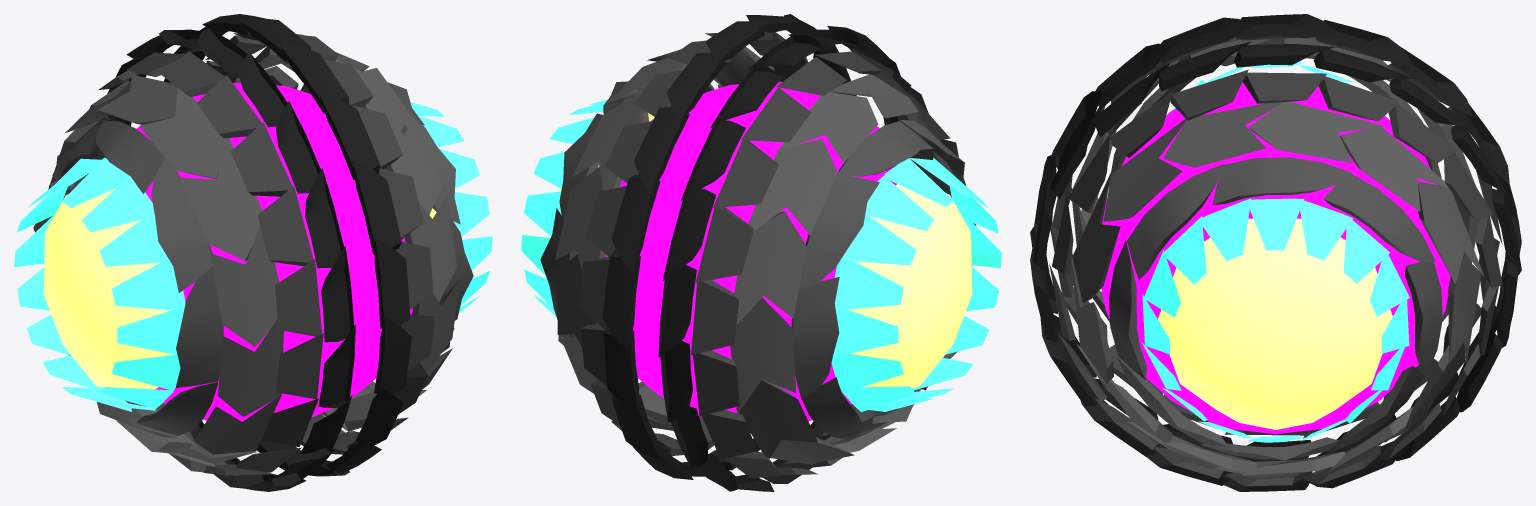
File: ball15.fbx
The picture shows the model from 3 angles, left to right: view 1: azimuth 30°, elevation 25°; view 2: azimuth 150°, elevation 25°; view 3: azimuth 270°, elevation 25°; orthographic projection. The views are drawn at different scales.
Visible parts, largest first — view 1: Cube.009, Cube.011, Cube.010, Cube.001, Cube.002, Icosphere, Cube.006; view 2: Cube.009, Cube.011, Cube.010, Cube.001, Cube.002, Icosphere, Cube.006; view 3: Cube.009, Cube.011, Cube.006, Cube.010, Cube.002, Cube.001, Icosphere.
Part boxes in pixels (x1,y1,x2,y2): Cube.009: (50,46,460,466); Cube.011: (107,14,411,491); Cube.010: (89,33,435,475); Cube.001: (14,102,492,411); Cube.002: (33,82,473,437); Icosphere: (136,82,412,421); Cube.006: (43,188,462,389); Cube.009: (555,46,958,464); Cube.011: (602,14,900,491); Cube.010: (579,30,928,478); Cube.001: (521,99,1001,412); Cube.002: (540,81,976,438); Icosphere: (605,81,897,421); Cube.006: (559,113,972,388); Cube.009: (1070,37,1484,477); Cube.011: (1030,14,1521,491); Cube.006: (1158,218,1392,429); Cube.010: (1049,36,1502,486); Cube.002: (1109,51,1442,460); Cube.001: (1142,62,1409,442); Icosphere: (1101,82,1450,434).
Size of the model in its own units: 472 by 506 by 513.
1 material, 1 textured.
